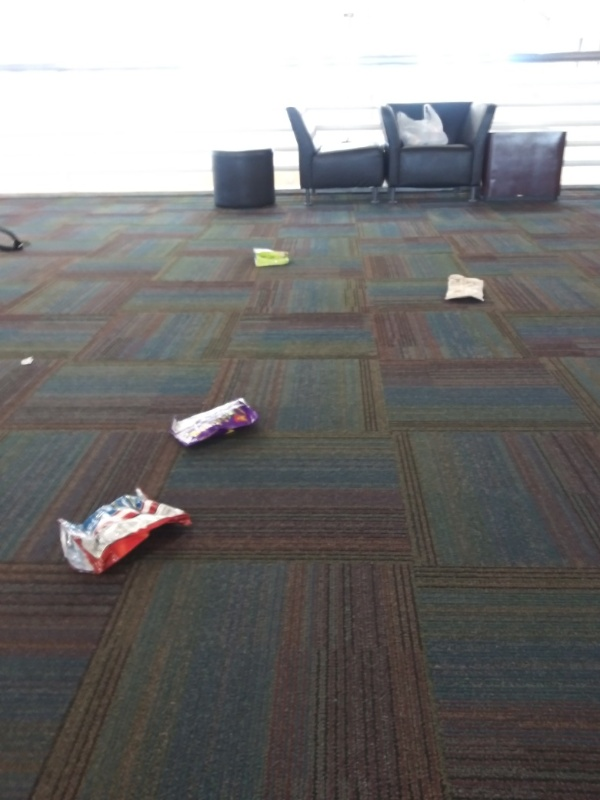bag: (49, 486, 195, 577), (169, 394, 261, 449), (441, 270, 491, 305), (248, 244, 296, 271)
